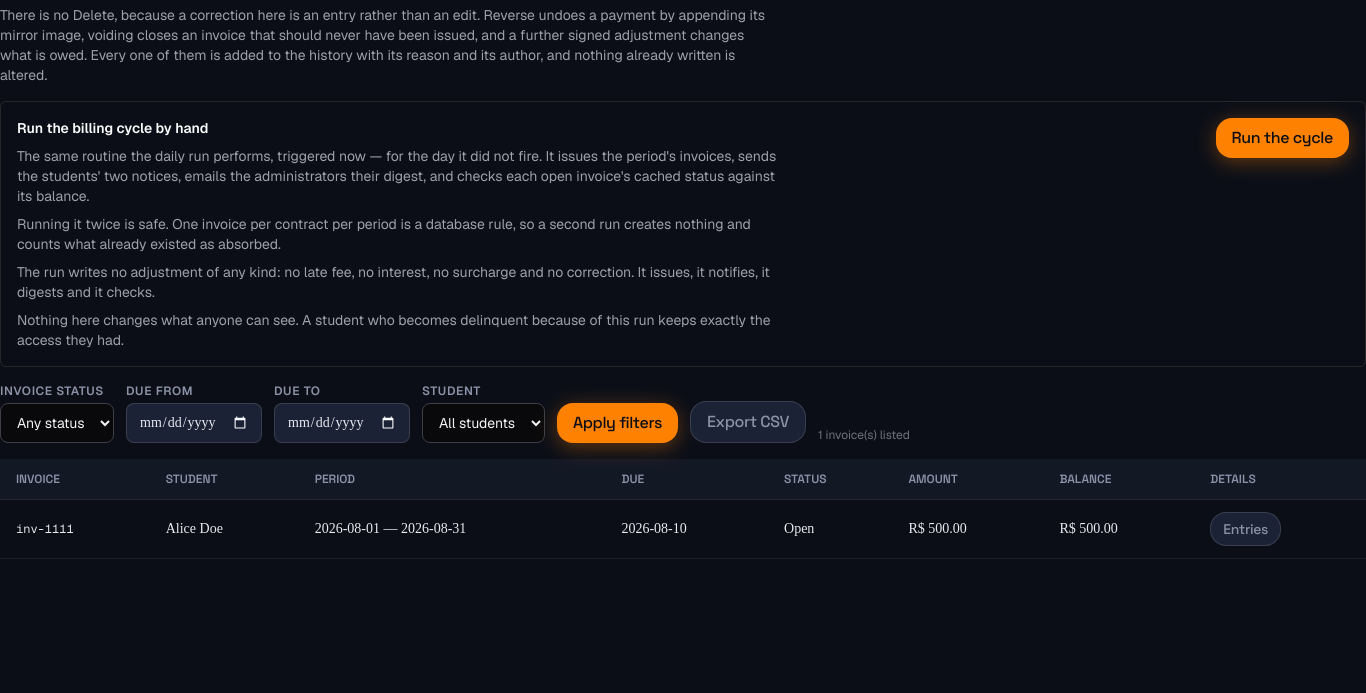
LedgerTab › refuses to reverse a payment without a reason
The width and height of the screenshot is (1366, 693).
Click the button "Entries" at (1246, 529), box [1210,512,1281,546]
(page scrolled)
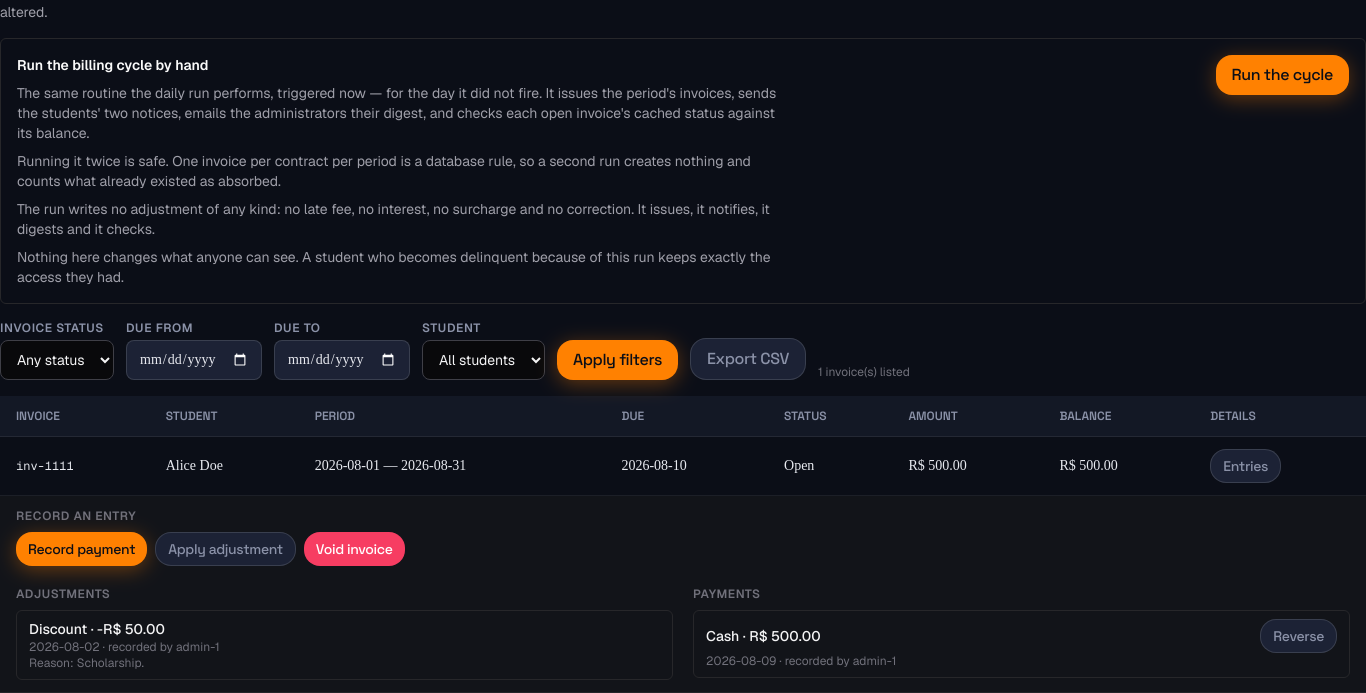
expect the heading "Payments" is shown: met, box [693,586,761,602]
Click the button "Reverse" at (1299, 636), box [1260,619,1337,653]
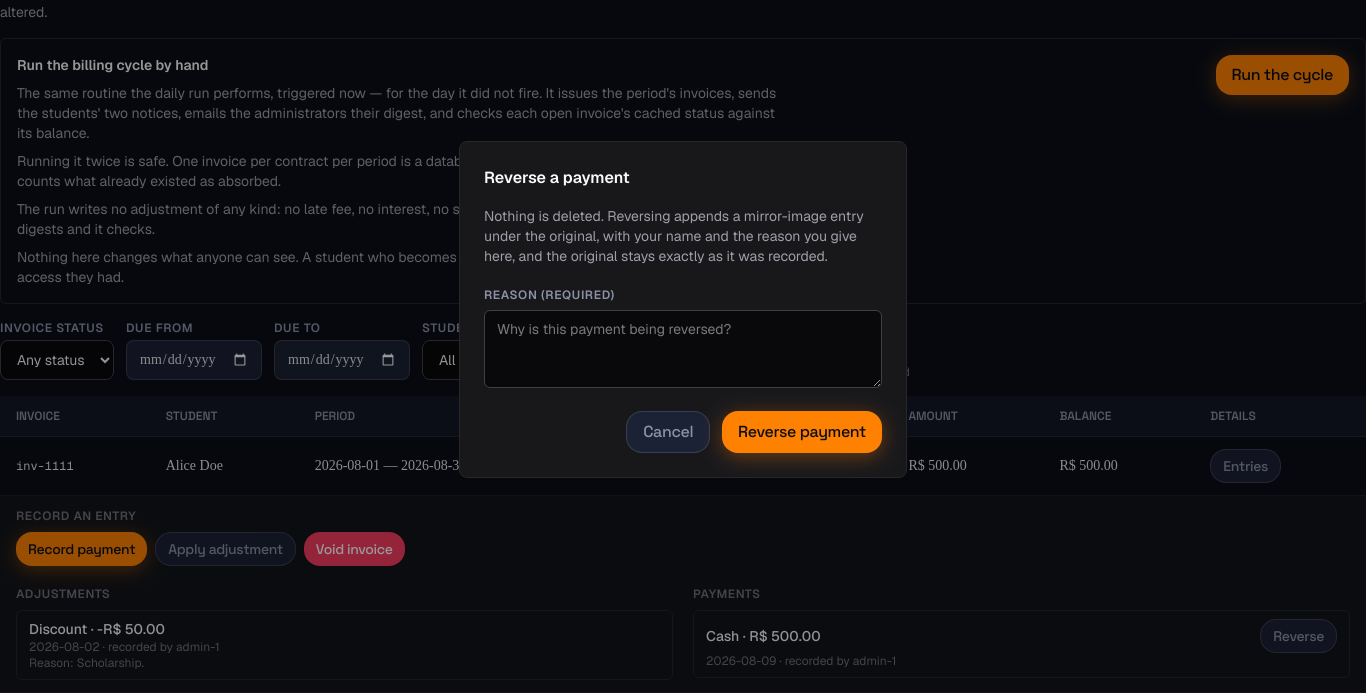
Click the button "Reverse payment" at (802, 432), box [722,410,882,452]
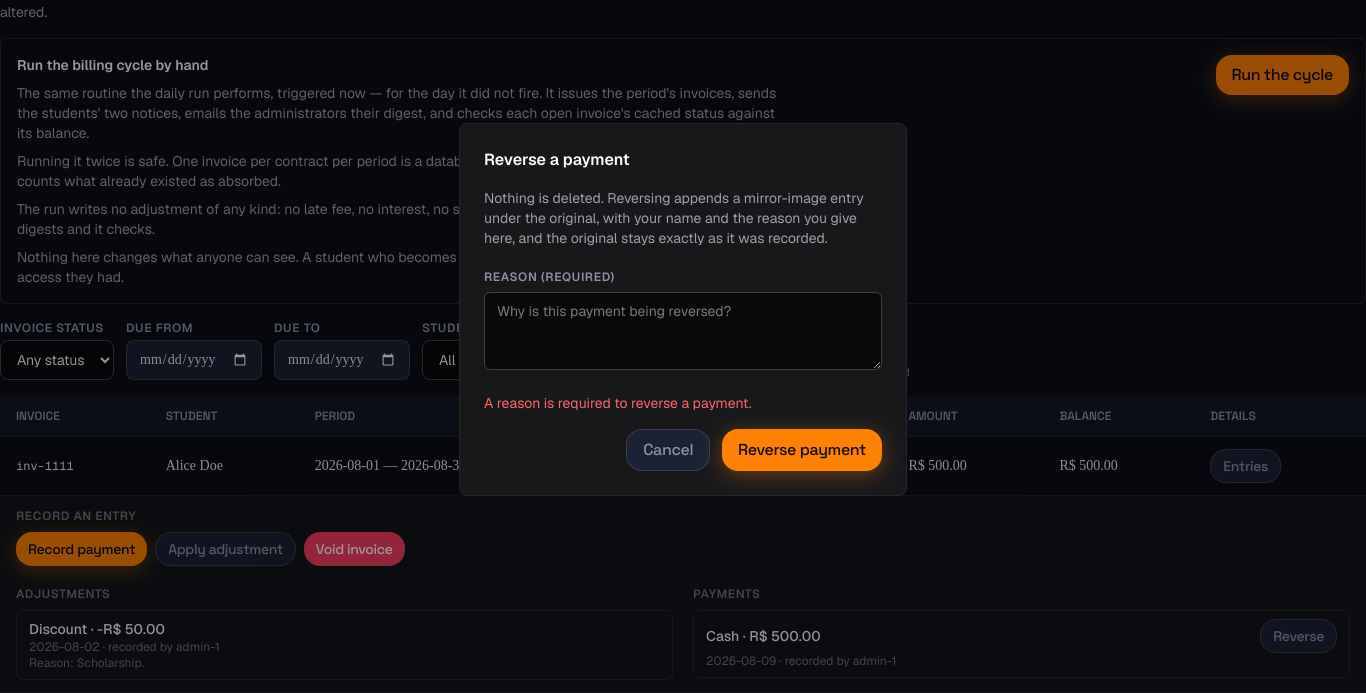
expect the text "A reason is required to reverse a payment." is shown: met, box [484,394,752,412]
